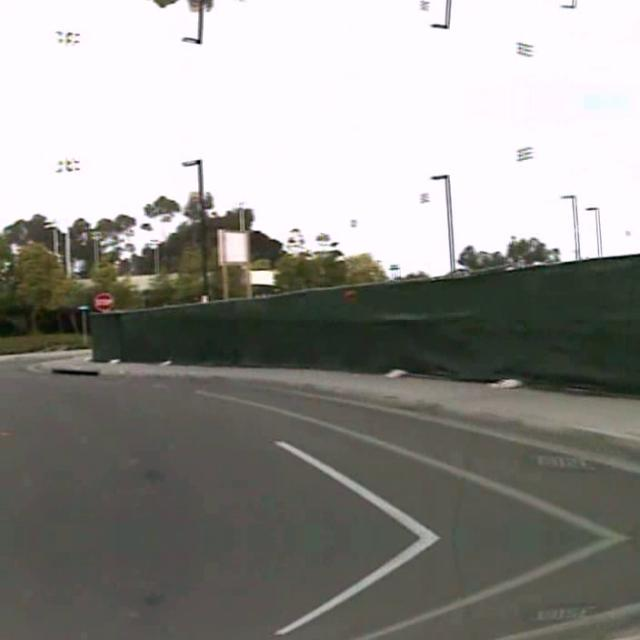stop: (93, 290, 113, 312)
